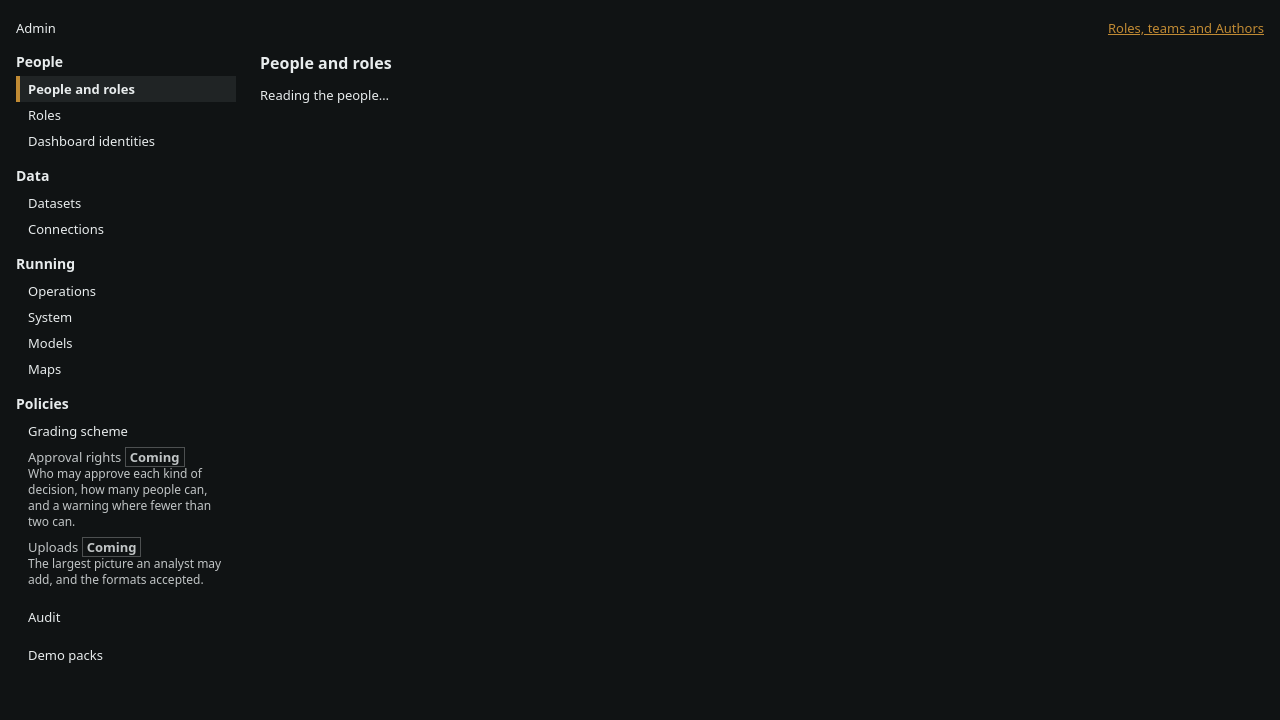
it: Admin's words: roles by name, never people or ids › in Dashboard identities, nothing names a person in a tip or shows an id
What coordinates should you click on to do the following:
click the button "Dashboard identities"
I would click on:
 (128, 141)
Its box is [20,128,236,154].
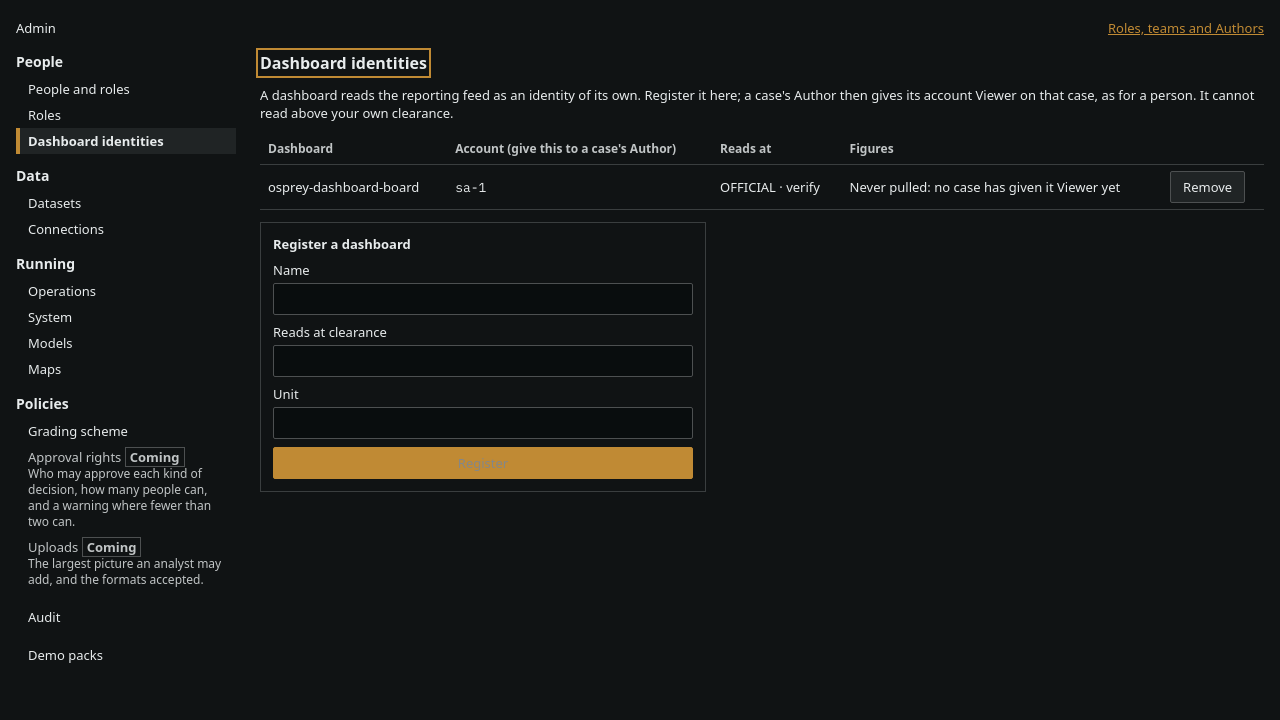
Check: the heading with id "admin-section-title" reads "Dashboard identities", box [260,52,427,74]
Check: the element with class "admin-place__section" shows "osprey-dashboard-board", box [268,178,419,196]
